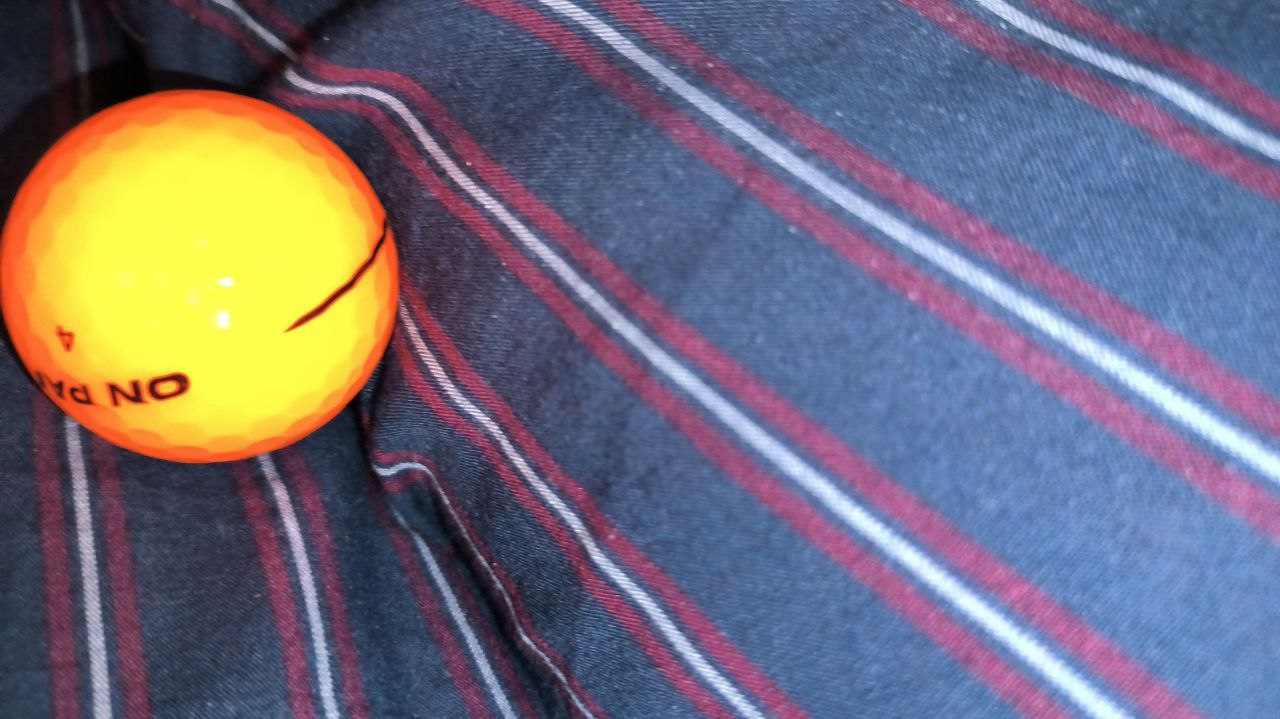orange_ball: (0, 90, 399, 464)
